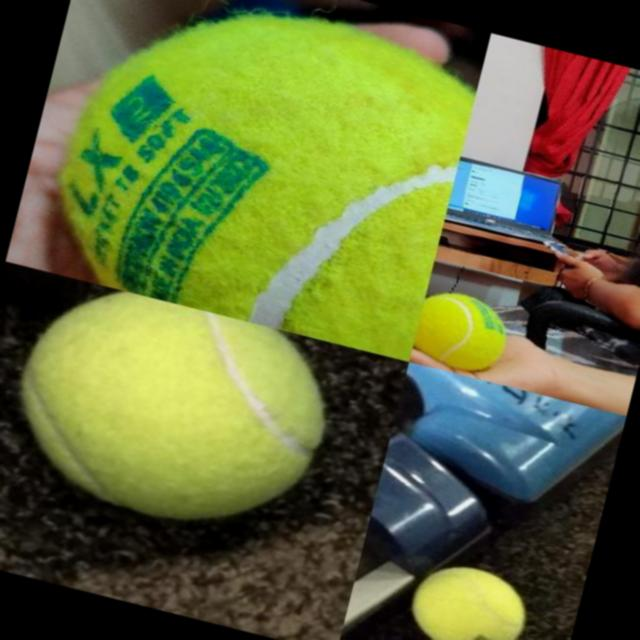tennis-ball: (40, 0, 481, 360), (0, 269, 349, 556), (402, 554, 535, 640), (410, 285, 513, 376)
